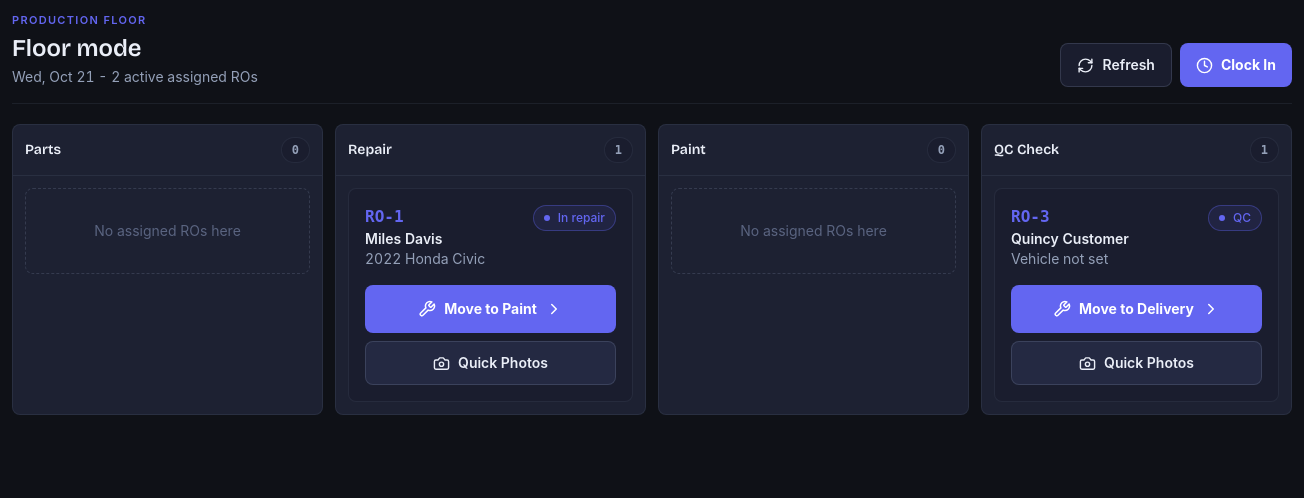
FloorMode › restores a qc card and surfaces an error when advancing to delivery fails
The width and height of the screenshot is (1304, 498).
Expected: the link "RO-3" is shown, [1011, 207, 1050, 226]
Click the button "Move to Delivery".
click(1136, 309)  # box [1011, 285, 1262, 333]
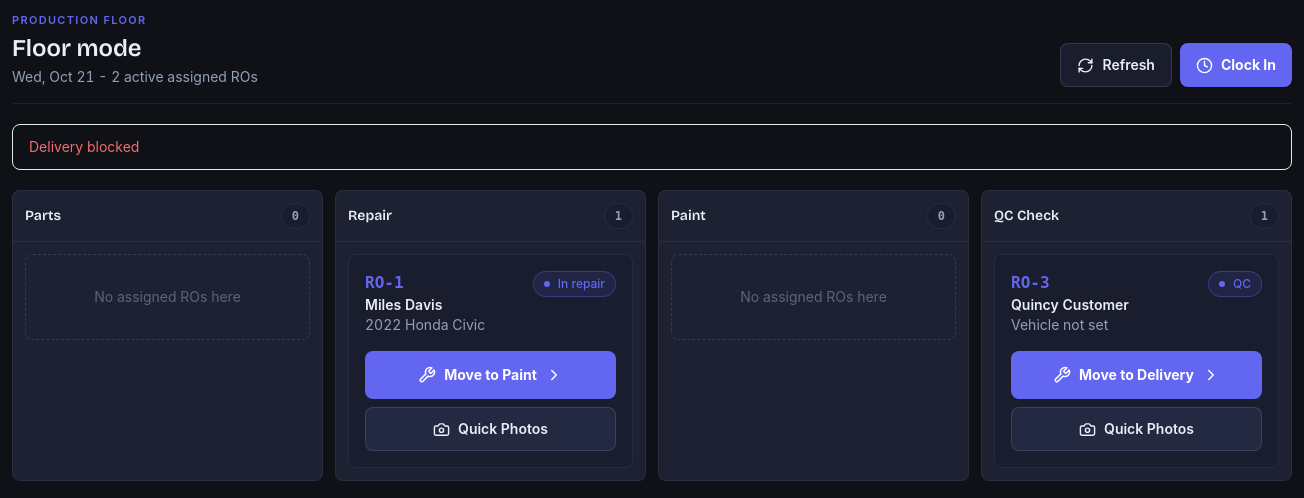
Expected: the link "RO-3" is shown, [1011, 273, 1050, 292]
Expected: the text "Delivery blocked" is shown, [12, 124, 1292, 170]
